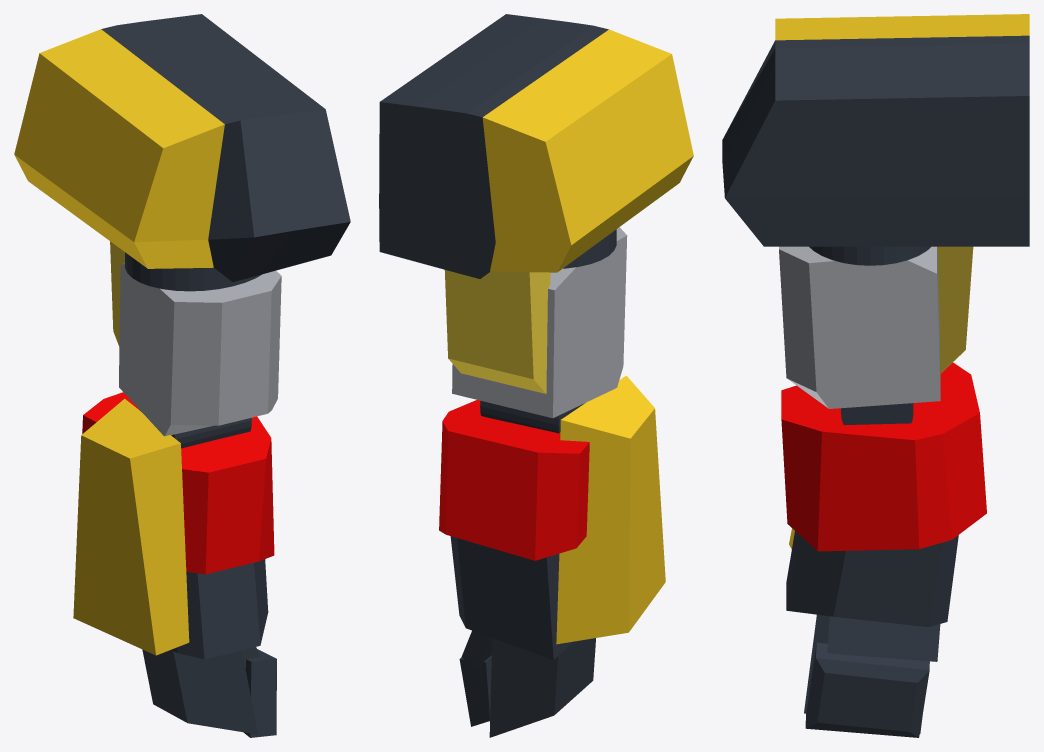
Rendered from Robot-arm.fbx.
The picture shows the model from 3 angles, left to right: view 1: azimuth 30°, elevation 25°; view 2: azimuth 150°, elevation 25°; view 3: azimuth 270°, elevation 25°; orthographic projection. The views are drawn at different scales.
Parts seen in each view (by area): view 1: ต้นแขน.012, ต้นแขน.002; view 2: ต้นแขน.012, ต้นแขน.002; view 3: ต้นแขน.012, ต้นแขน.002.
Part boxes in pixels (box(x1,y1,x2,y2)): ต้นแขน.012: box(14, 14, 350, 448); ต้นแขน.002: box(73, 392, 276, 737); ต้นแขน.012: box(379, 14, 693, 433); ต้นแขน.002: box(439, 375, 665, 737); ต้นแขน.012: box(722, 14, 1029, 424); ต้นแขน.002: box(781, 362, 986, 737).
Size of the model in its own units: 62.07 by 207 by 85.41.
